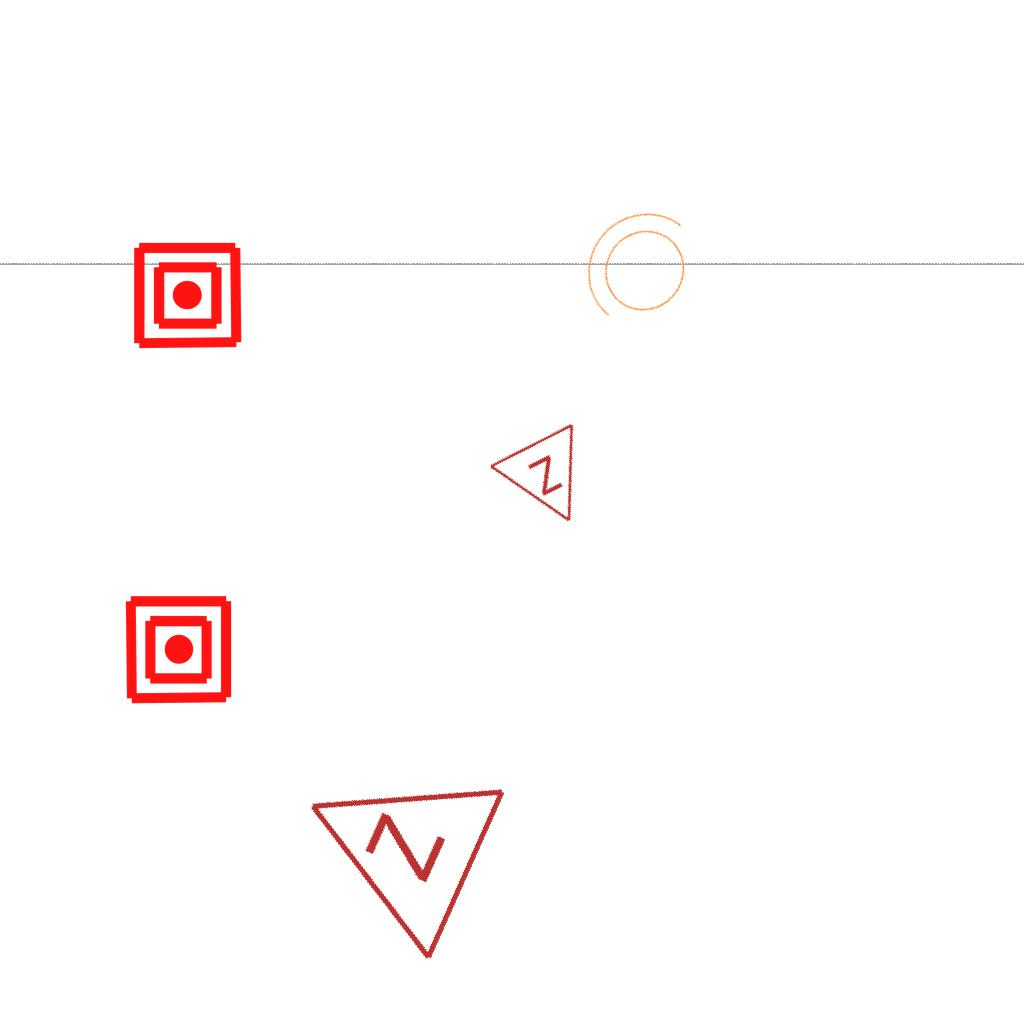NAM-Nichtautomatischer_Melder: (131, 239, 244, 352), (122, 593, 235, 706)
Scheinwerfer_fuer_Alarmbeleuchtung: (553, 183, 725, 357)
Zimmersignalleuchte: (257, 712, 521, 974), (484, 415, 618, 549)
